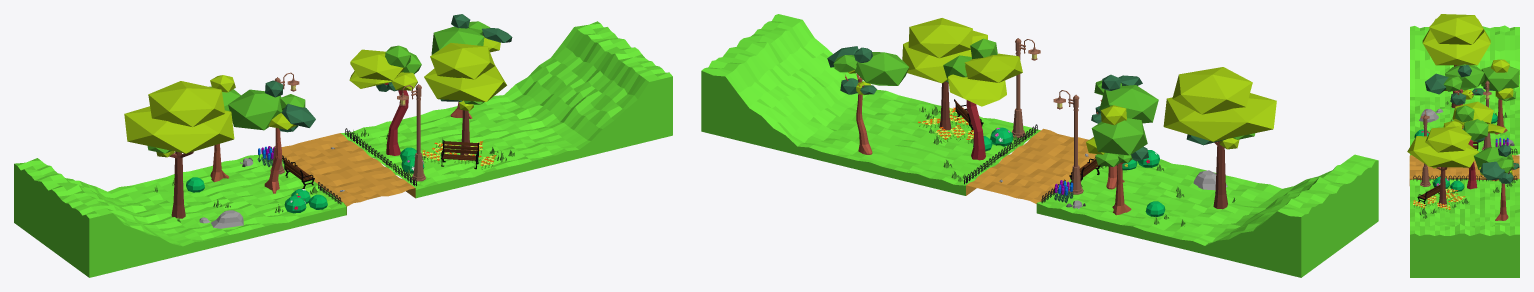
Rendered from road1.fbx.
The picture shows the model from 3 angles, left to right: view 1: azimuth 30°, elevation 25°; view 2: azimuth 150°, elevation 25°; view 3: azimuth 270°, elevation 25°; orthographic projection. The views are drawn at different scales.
Parts seen in each view (by area): view 1: Circle.008; view 2: Circle.008; view 3: Circle.008.
Boxes of the visible parts, x1,y1,x2,y2 form: Circle.008: [14, 14, 672, 277]; Circle.008: [701, 14, 1378, 277]; Circle.008: [1407, 14, 1519, 277].
Bounding box in the file's own units: 16990 × 3745 × 3896.
